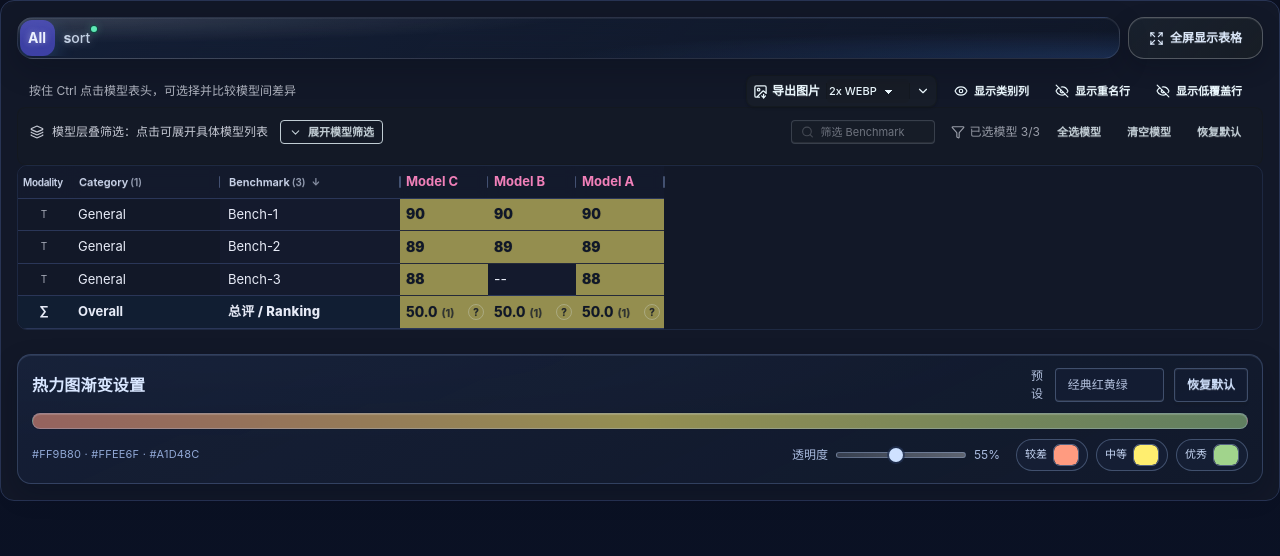
Test: BenchmarkMatrix 跨页签模型覆盖 › provider 内模型按当前覆盖率降序排序
Click the button "展开模型筛选".
click(332, 132)  # box [280, 120, 383, 144]
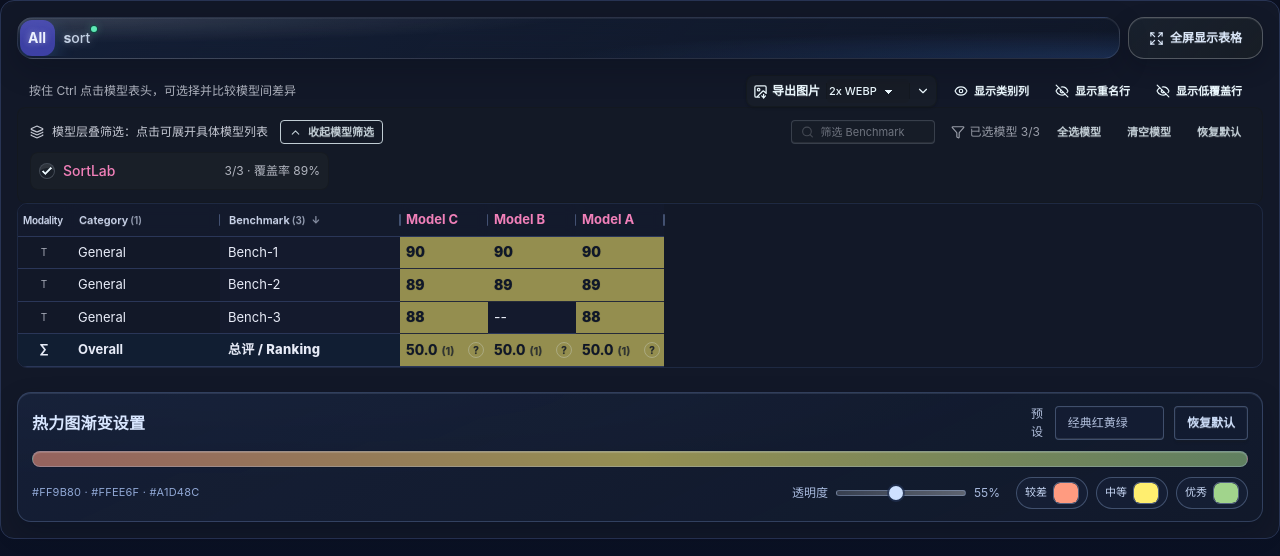
Expected: the text "SortLab" is shown, [63, 162, 116, 179]
